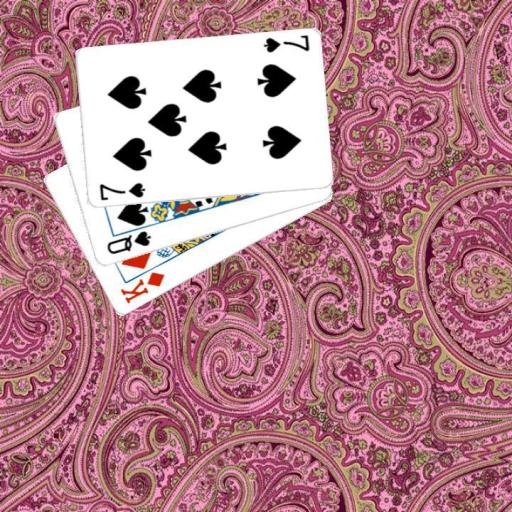7S: (96, 180, 146, 203), (260, 32, 311, 54)
KD: (117, 269, 167, 306)
QS: (103, 228, 153, 256)
